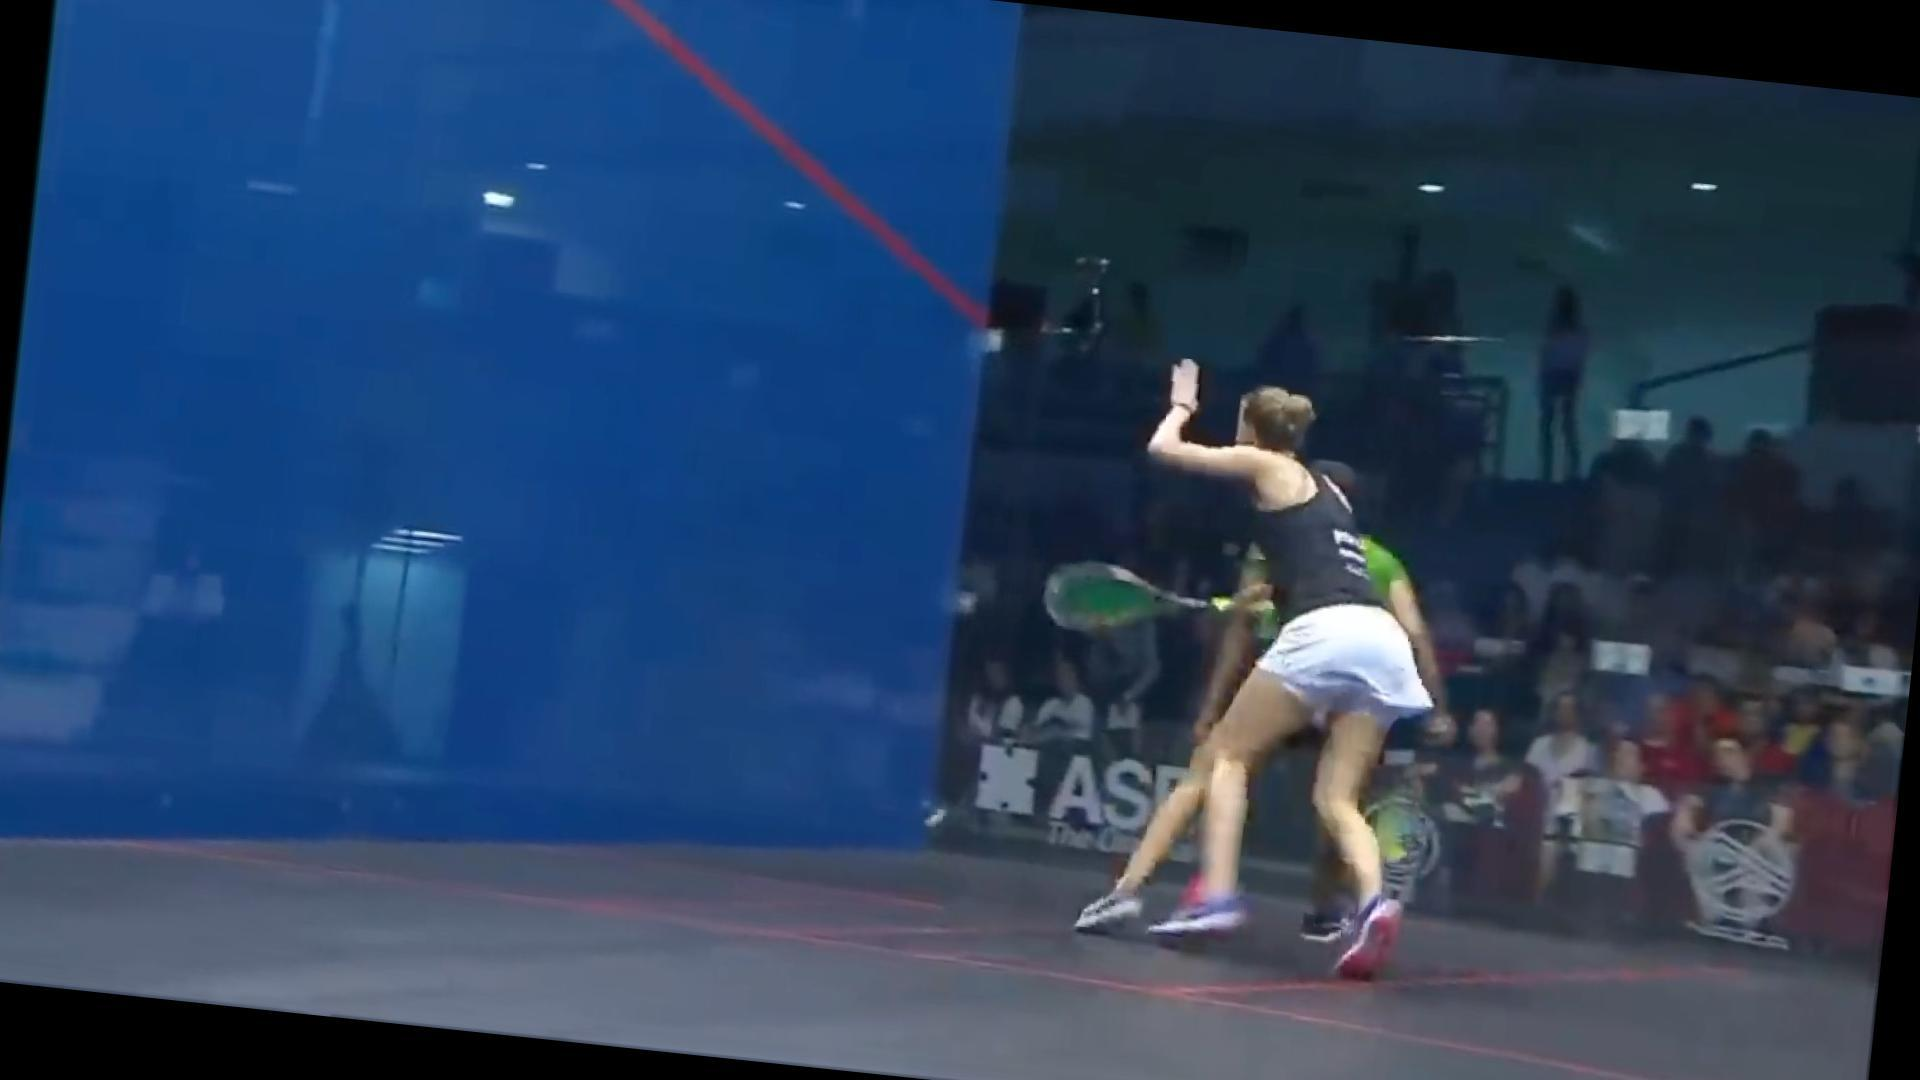Squash-Ball: (909, 789, 961, 849)
